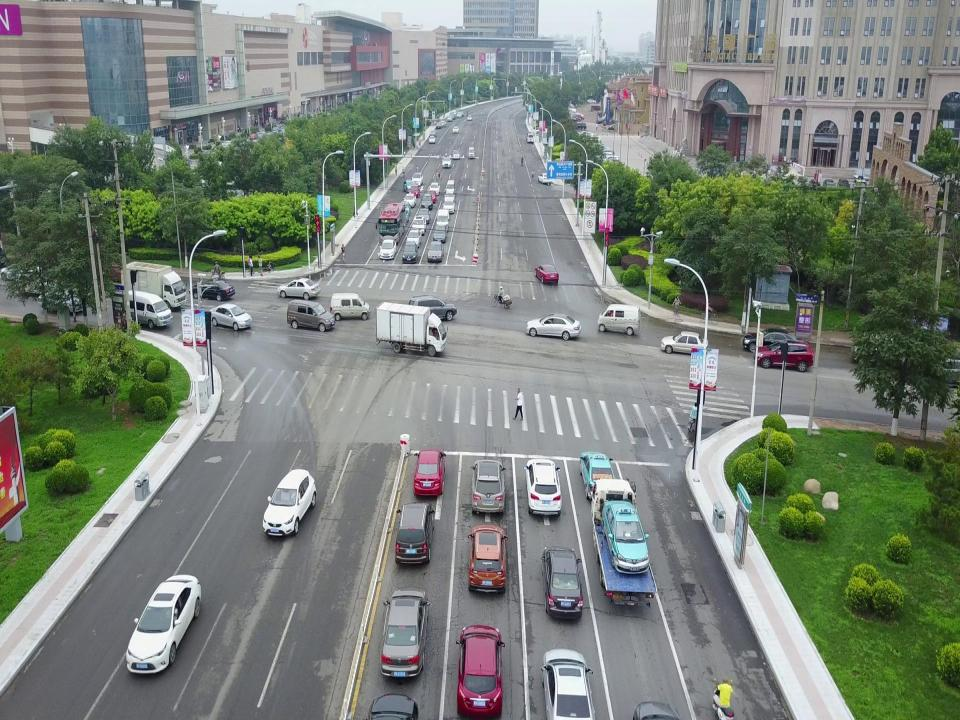bus: (376, 202, 406, 242)
car: (123, 570, 203, 677), (379, 588, 430, 678), (456, 622, 502, 716), (542, 649, 598, 720), (262, 468, 316, 537), (601, 502, 649, 574), (542, 546, 582, 617), (469, 522, 507, 594), (394, 502, 433, 568), (526, 458, 562, 516), (118, 291, 174, 327), (754, 340, 814, 373), (580, 450, 616, 502), (471, 458, 505, 513), (287, 297, 336, 334), (525, 311, 581, 342), (596, 301, 640, 338), (414, 448, 446, 497), (742, 328, 802, 354), (205, 303, 253, 331), (660, 332, 708, 358), (37, 289, 85, 314), (189, 277, 235, 303), (330, 292, 370, 321), (278, 276, 320, 300), (17, 272, 62, 294), (1, 261, 43, 283), (535, 262, 559, 286), (403, 241, 419, 263), (379, 240, 396, 260), (428, 241, 443, 262), (436, 209, 450, 229), (406, 229, 422, 246), (433, 224, 447, 242), (412, 217, 426, 235), (418, 207, 430, 224), (442, 199, 455, 213), (402, 194, 415, 208), (421, 193, 433, 208), (444, 179, 456, 193), (411, 172, 423, 186), (538, 172, 550, 185), (400, 201, 410, 216), (402, 179, 412, 193), (426, 190, 436, 203), (410, 184, 420, 197), (444, 191, 456, 201), (428, 183, 440, 193), (442, 157, 450, 169), (452, 150, 460, 160), (468, 146, 474, 159), (527, 132, 533, 144), (439, 120, 446, 127), (429, 134, 435, 142), (453, 126, 459, 134), (430, 129, 436, 137), (436, 120, 442, 128), (446, 115, 452, 121), (450, 113, 456, 119), (457, 111, 462, 118), (467, 115, 473, 120), (455, 108, 461, 113)
truck: (591, 476, 657, 609), (377, 302, 447, 356), (118, 260, 188, 311), (408, 295, 456, 322)
